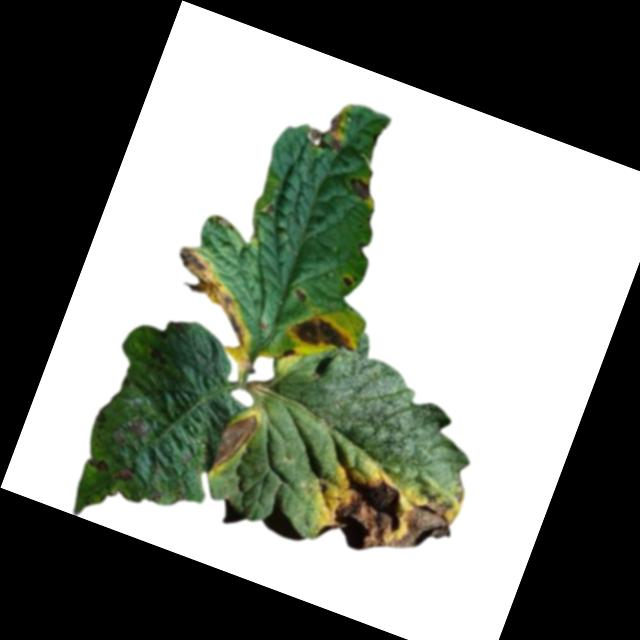Early_blight: (302, 453, 463, 581), (140, 240, 279, 373), (207, 405, 260, 482), (290, 308, 360, 361), (301, 101, 355, 158), (342, 175, 374, 204), (109, 462, 136, 485), (83, 456, 109, 474), (289, 285, 310, 305), (338, 274, 354, 289)
